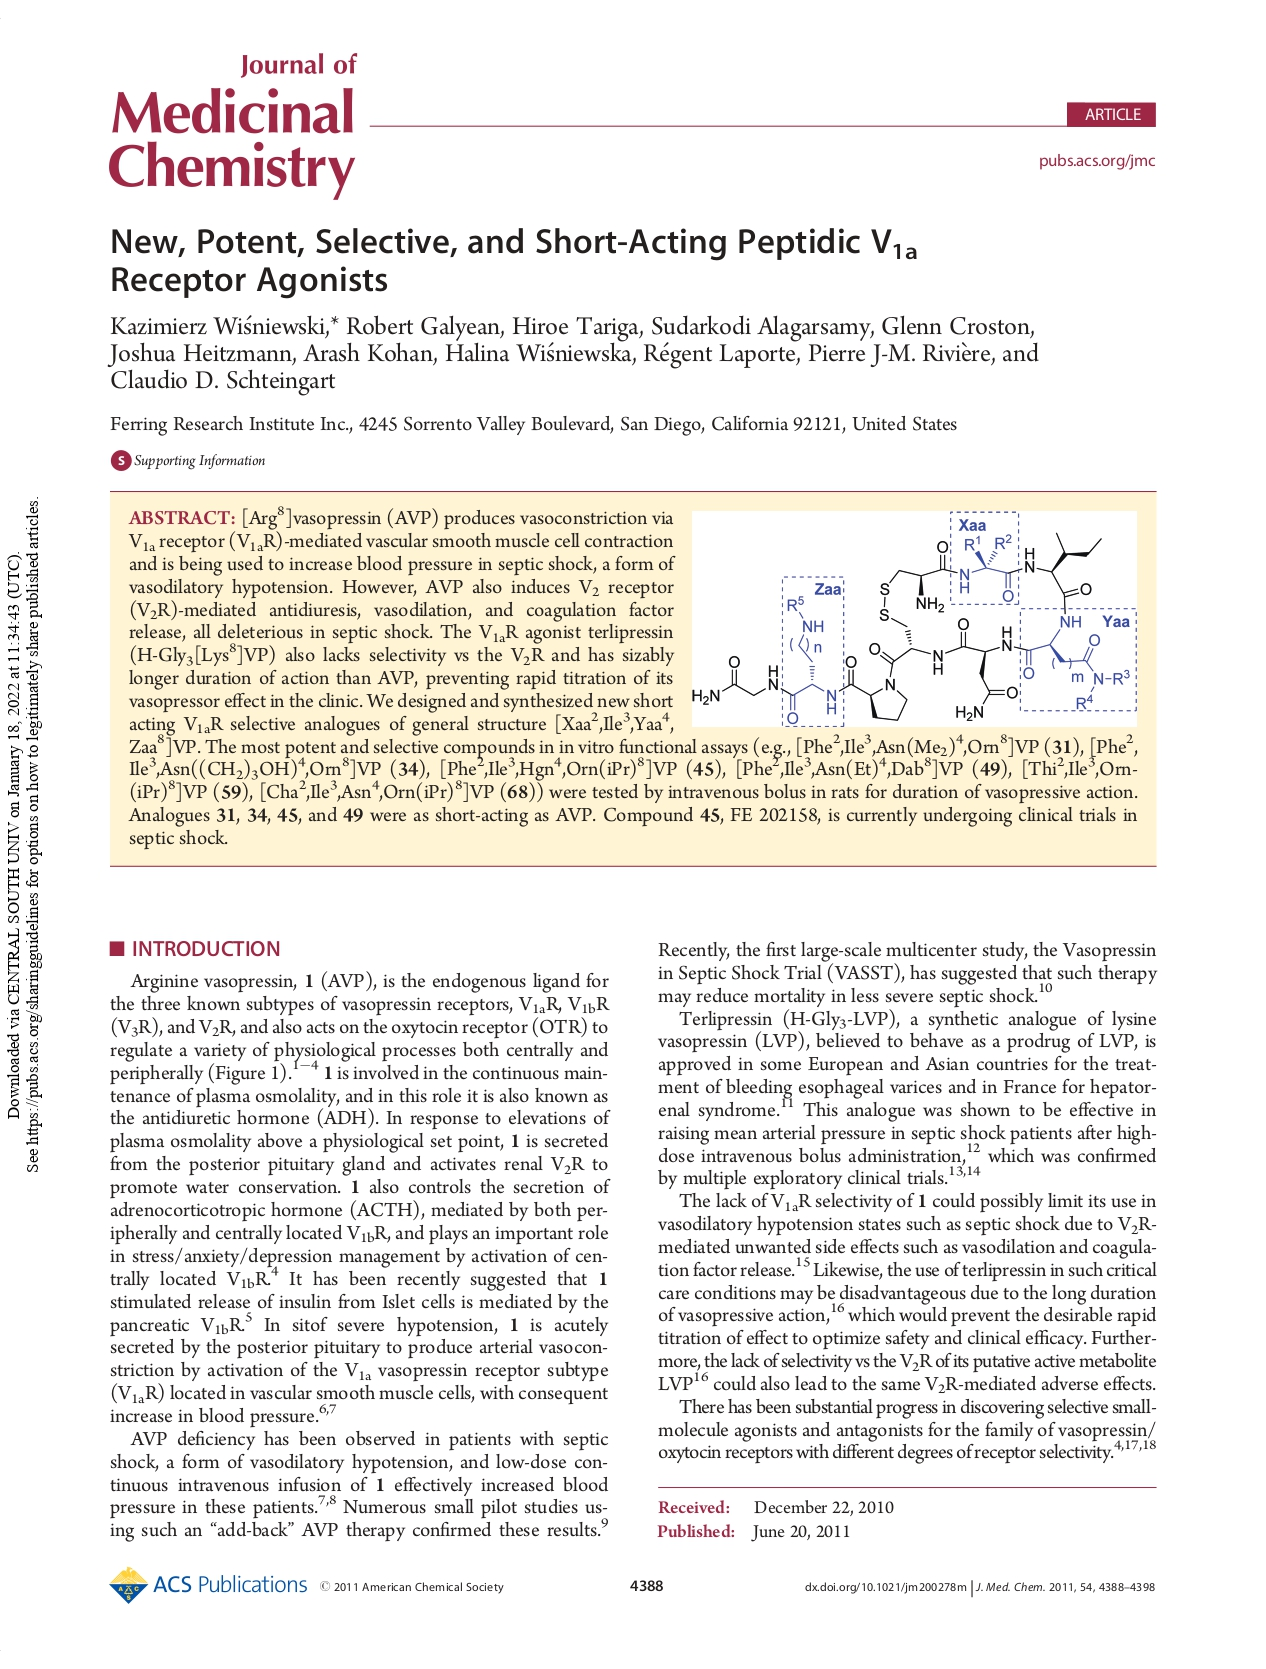exist_molecular: (692, 517, 1132, 726)
